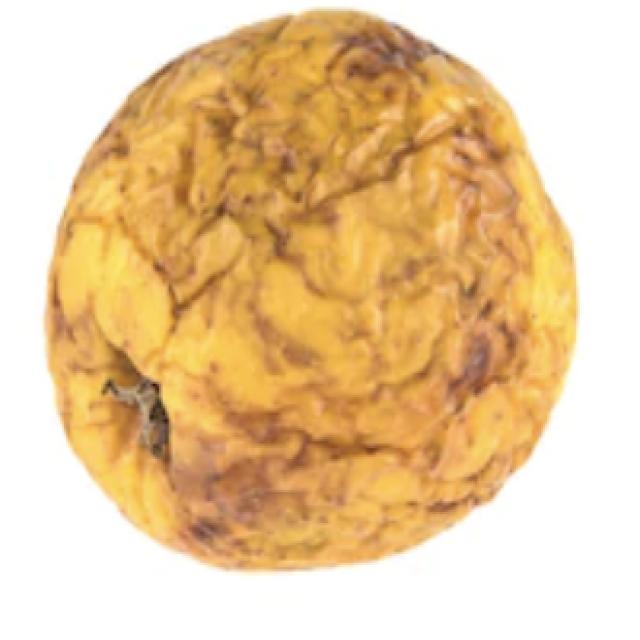apple: (47, 12, 575, 569)
